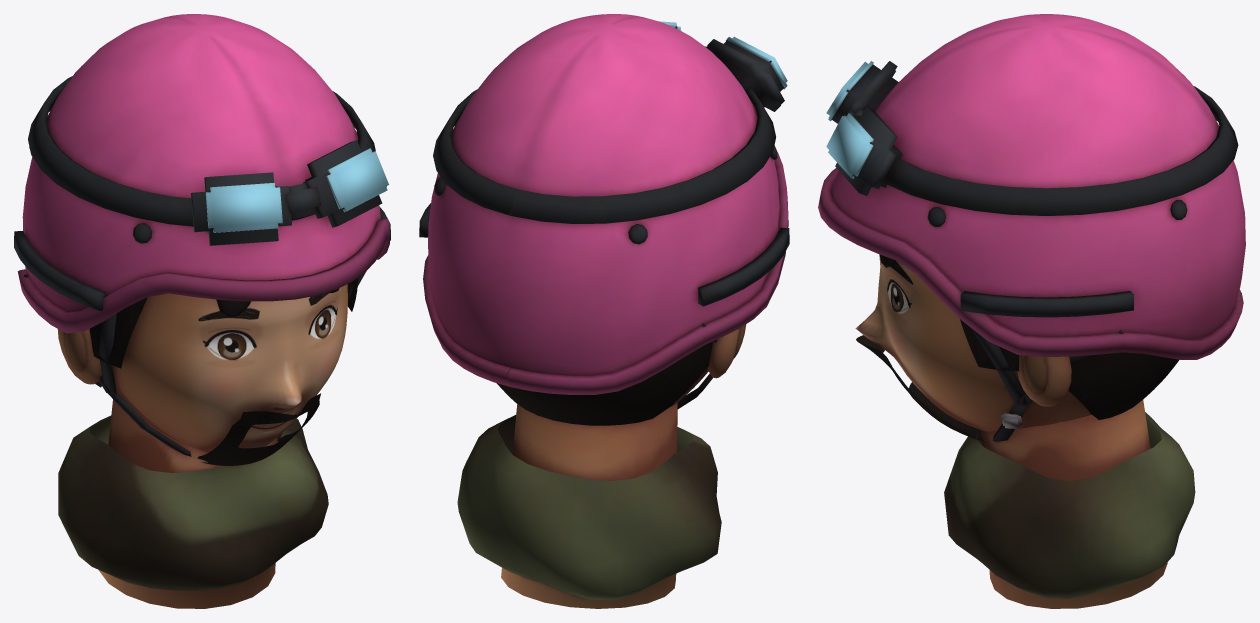
Rendered from cabeza-misil-m.glb.
3 renders of one model, left to right at view 1: azimuth 30°, elevation 25°; view 2: azimuth 150°, elevation 25°; view 3: azimuth 270°, elevation 25°, orthographic.
Parts seen in each view (by area): view 1: h_Head; view 2: h_Head; view 3: h_Head.
Boxes of the visible parts, x1,y1,x2,y2 form: h_Head: [14, 14, 390, 608]; h_Head: [419, 14, 789, 608]; h_Head: [818, 14, 1245, 608].
Bounding box in the file's own units: 0.2582 × 0.4304 × 0.3022.
Materials: 1 (1 with a texture image).
